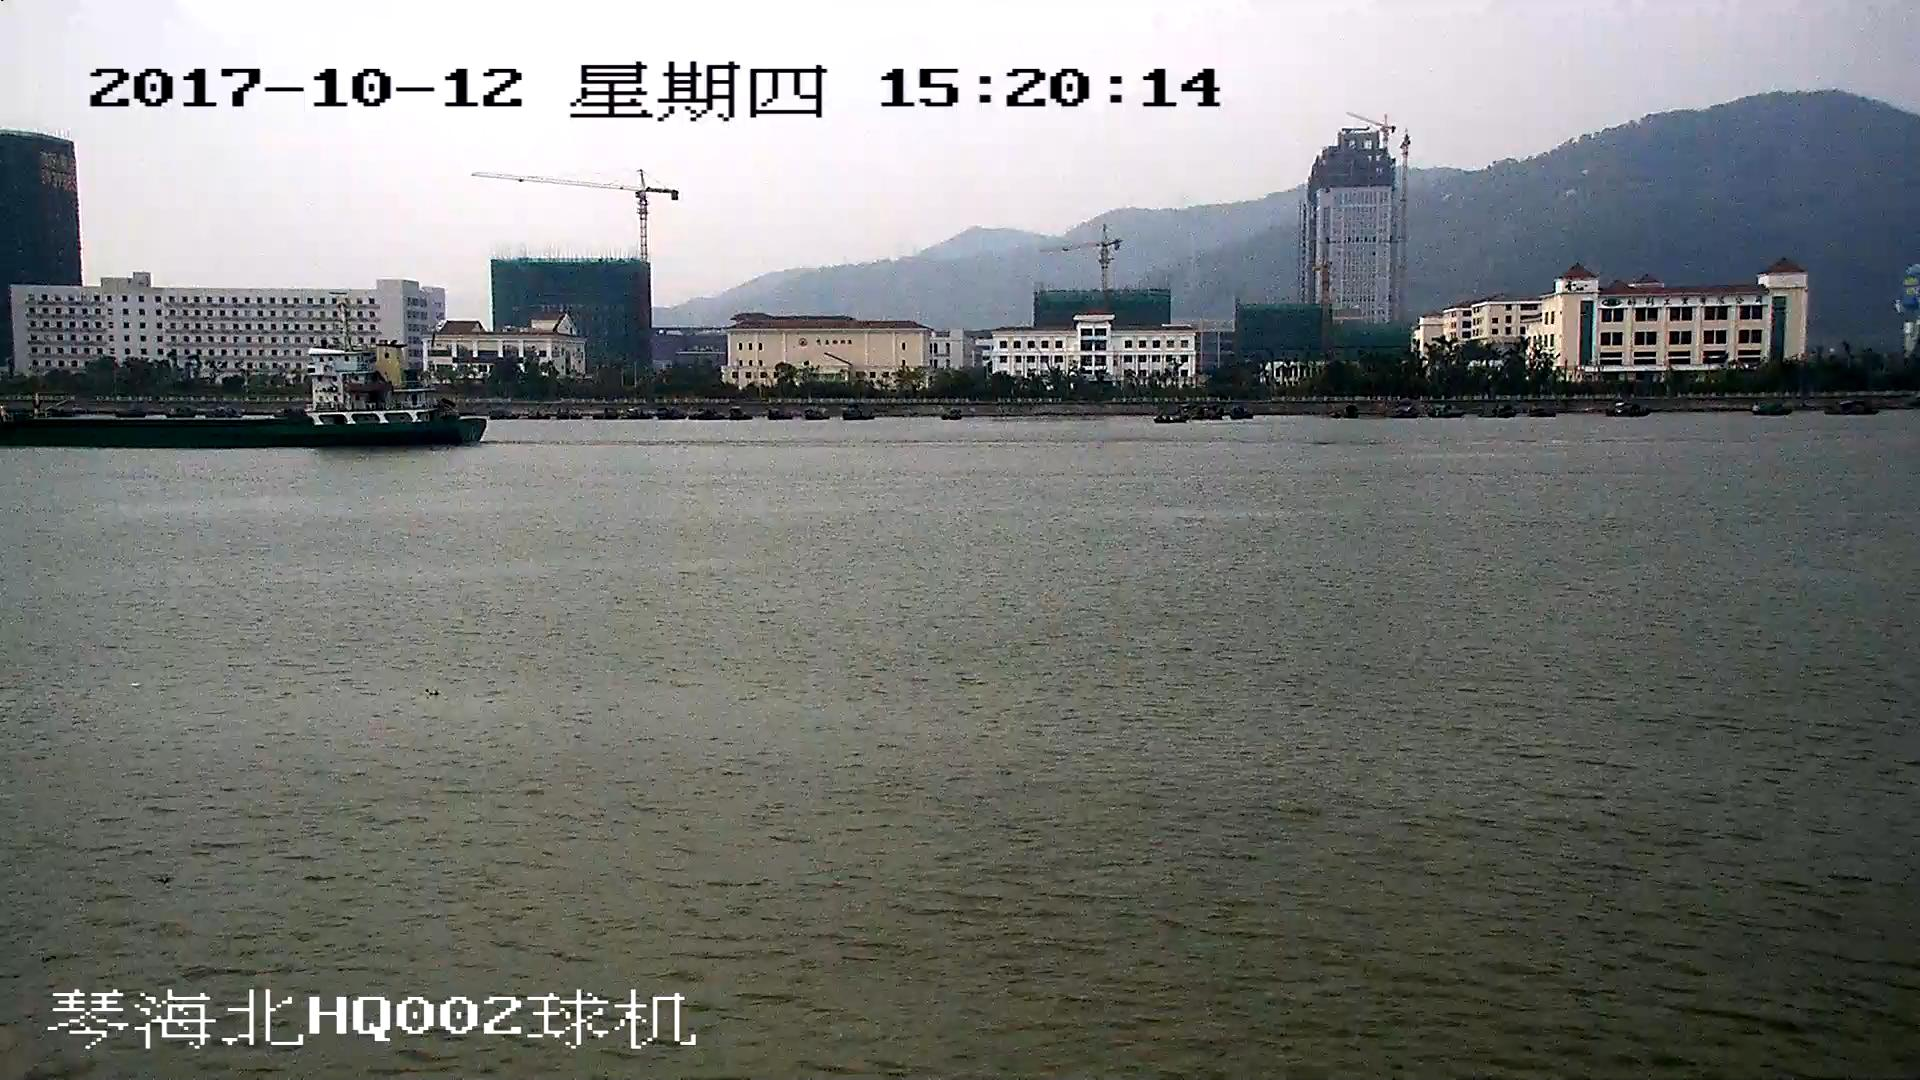general cargo ship: (1, 352, 487, 447)
